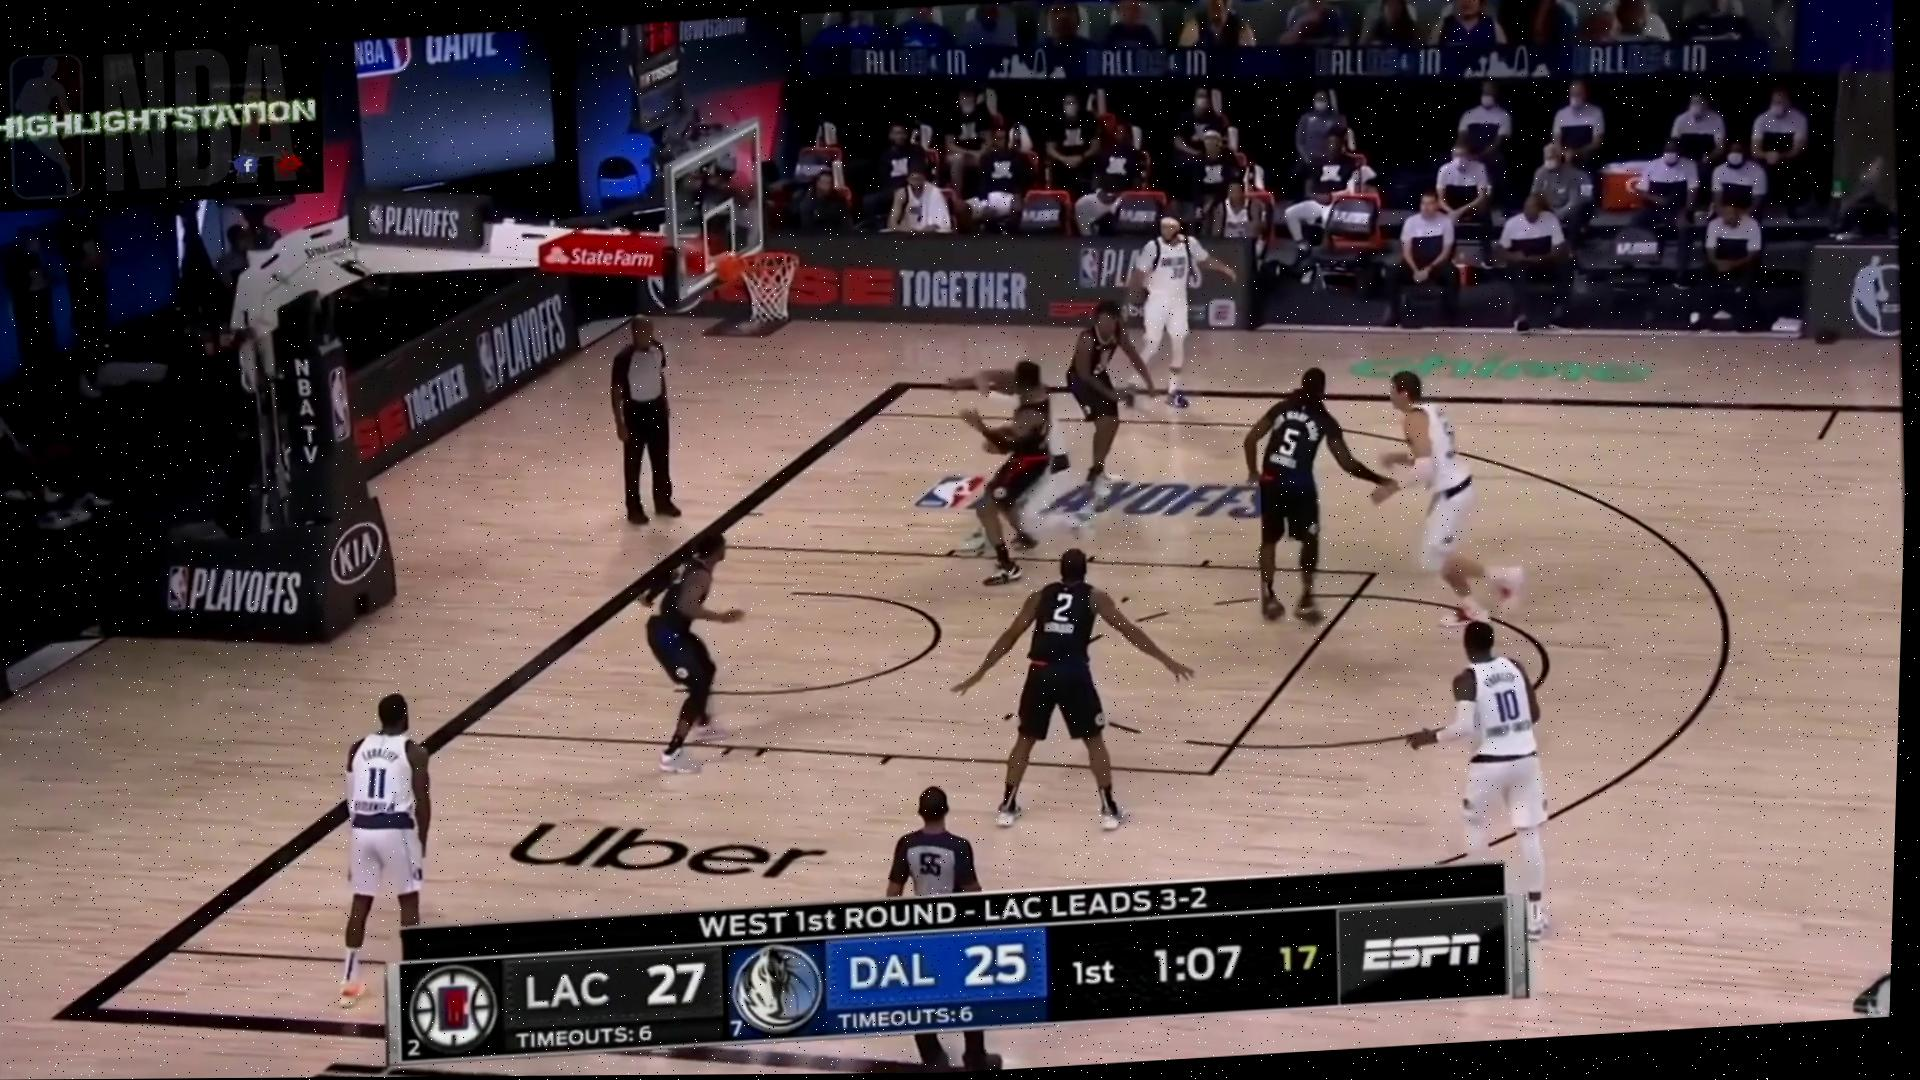no_foul: (926, 344, 1091, 592)
